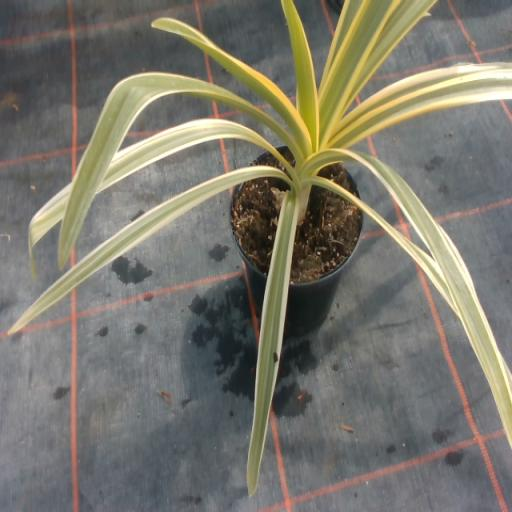Agapanthus-praecox: (303, 149, 511, 446), (58, 74, 305, 267), (9, 166, 277, 333), (154, 18, 311, 156), (313, 178, 454, 311), (247, 191, 298, 495), (332, 64, 511, 146), (100, 122, 270, 191), (318, 0, 398, 143), (350, 0, 436, 99), (282, 0, 318, 148), (29, 185, 70, 274), (328, 0, 362, 66)
